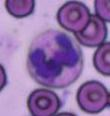N: (26, 29, 82, 88)
